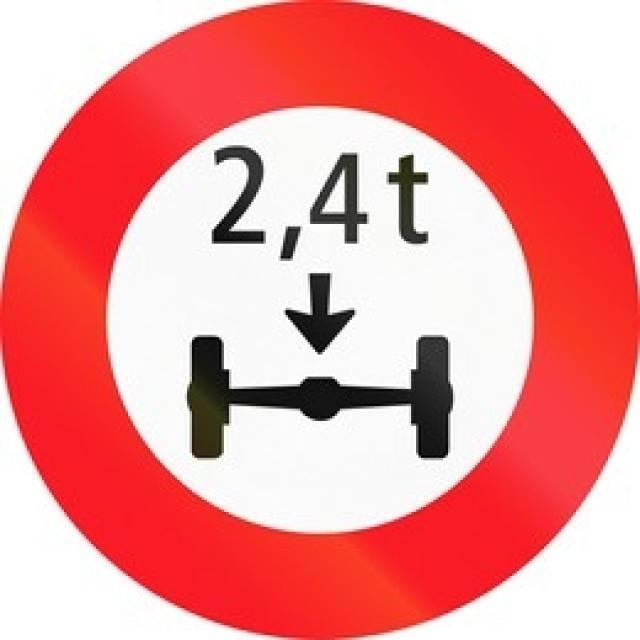axle load limit: (17, 12, 631, 620)
